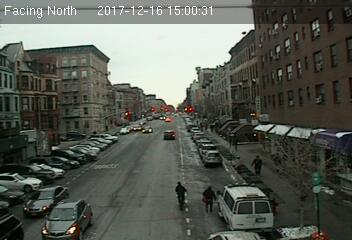bicycle: (174, 180, 189, 212)
car: (41, 201, 90, 240), (18, 184, 67, 213), (204, 150, 225, 166)
pedestrian: (201, 183, 217, 214), (251, 154, 263, 181)
police: (220, 180, 273, 231)
